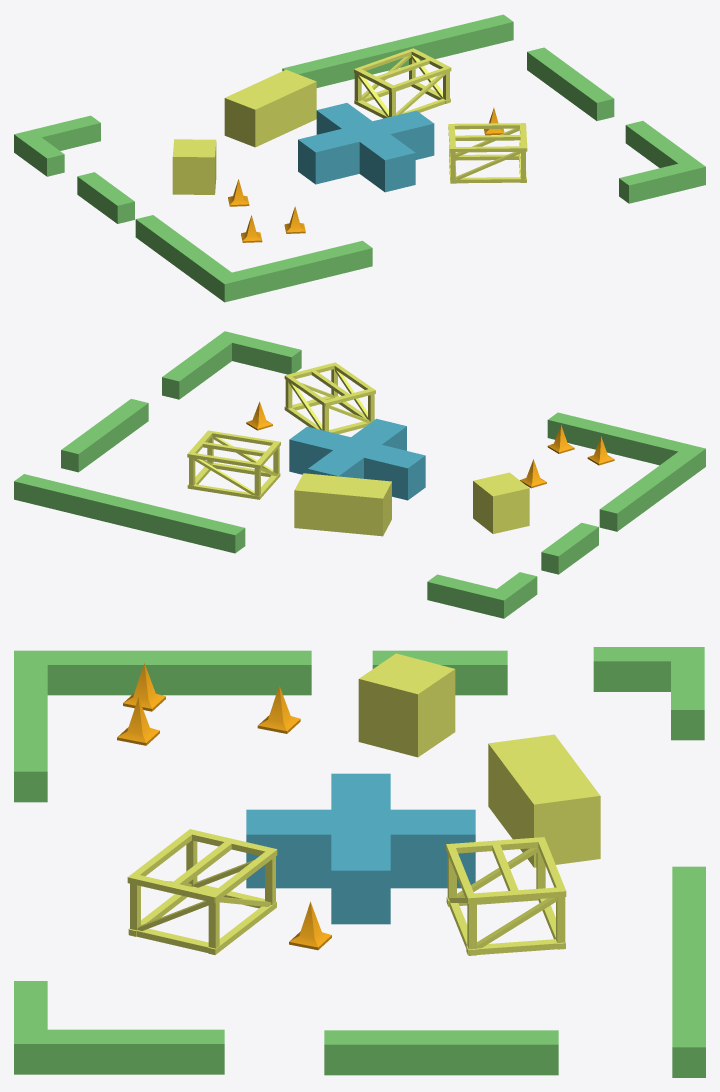
Rendered from BMark5.fbx.
The picture shows the model from 3 angles, top to bottom: view 1: azimuth 30°, elevation 25°; view 2: azimuth 150°, elevation 25°; view 3: azimuth 270°, elevation 25°; orthographic projection. The views are drawn at different scales.
Parts seen in each view (by area): view 1: BMark5; view 2: BMark5; view 3: BMark5.
Boxes of the visible parts, x1,y1,x2,y2 form: BMark5: (14,14,705,302); BMark5: (14,331,705,618); BMark5: (14,647,705,1077).
Bounding box in the file's own units: 358 × 32.91 × 261.
